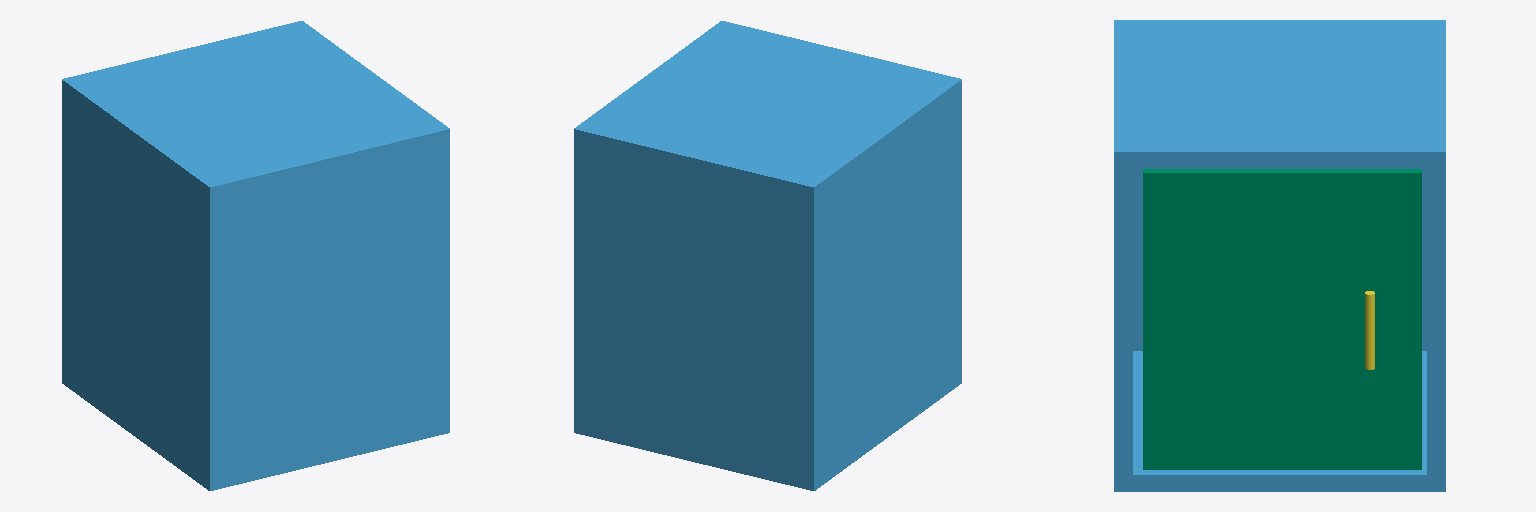
robot.urdf — my_cabinet:
<?xml version="1.0" ?>
<robot name="my_cabinet">
	<link name="world"/>
	<joint name="virtual_joint" type="fixed">
		<parent link="world"/>
		<child link="base_cabinet_link"/>
		<origin xyz="0.0 0.0 0.0" rpy="0.0 0.0 0.0"/>
	</joint>
	<link name="base_cabinet_link">
		<visual>
			<origin xyz="0.0 -0.0025 -0.17204618002771324" rpy="0.0 0.0 0.0"/>
			<geometry>
				<box size="0.3 0.32010508906761626 0.018"/>
			</geometry>
		</visual>
		<collision name="base_cabinet_link_collision_0">
			<origin xyz="0.0 -0.0025 -0.17204618002771324" rpy="0.0 0.0 0.0"/>
			<geometry>
				<box size="0.3 0.32010508906761626 0.018"/>
			</geometry>
		</collision>
		<visual>
			<origin xyz="0.0 0.14855254453380815 0.0" rpy="0.0 0.0 0.0"/>
			<geometry>
				<box size="0.3 0.018 0.3620923600554265"/>
			</geometry>
		</visual>
		<collision name="base_cabinet_link_collision_1">
			<origin xyz="0.0 0.14855254453380815 0.0" rpy="0.0 0.0 0.0"/>
			<geometry>
				<box size="0.3 0.018 0.3620923600554265"/>
			</geometry>
		</collision>
		<visual>
			<origin xyz="0.0 -0.15355254453380815 0.0" rpy="0.0 0.0 0.0"/>
			<geometry>
				<box size="0.3 0.018 0.3620923600554265"/>
			</geometry>
		</visual>
		<collision name="base_cabinet_link_collision_2">
			<origin xyz="0.0 -0.15355254453380815 0.0" rpy="0.0 0.0 0.0"/>
			<geometry>
				<box size="0.3 0.018 0.3620923600554265"/>
			</geometry>
		</collision>
		<visual>
			<origin xyz="0.0 -0.0025 0.17204618002771324" rpy="0.0 0.0 0.0"/>
			<geometry>
				<box size="0.3 0.32010508906761626 0.018"/>
			</geometry>
		</visual>
		<collision name="base_cabinet_link_collision_3">
			<origin xyz="0.0 -0.0025 0.17204618002771324" rpy="0.0 0.0 0.0"/>
			<geometry>
				<box size="0.3 0.32010508906761626 0.018"/>
			</geometry>
		</collision>
		<visual>
			<origin xyz="-0.141 -0.0025 0.0" rpy="0.0 0.0 0.0"/>
			<geometry>
				<box size="0.018 0.32010508906761626 0.3620923600554265"/>
			</geometry>
		</visual>
		<collision name="base_cabinet_link_collision_4">
			<origin xyz="-0.141 -0.0025 0.0" rpy="0.0 0.0 0.0"/>
			<geometry>
				<box size="0.018 0.32010508906761626 0.3620923600554265"/>
			</geometry>
		</collision>
		<inertial>
			<mass value="0.200000"/>
			<inertia ixx="0.003893" ixy="0.0" ixz="0.0" iyy="0.003685" iyz="0.0" izz="0.003208"/>
		</inertial>
	</link>
	<link name="door_link">
		<visual>
			<origin xyz="0.0 -0.13455254453380813 0.0"/>
			<geometry>
				<box size="0.018 0.26910508906761627 0.31609236005542646"/>
			</geometry>
		</visual>
		<collision name="door_link_collision">
			<origin xyz="0.0 -0.13455254453380813 0.0"/>
			<geometry>
				<box size="0.018 0.26910508906761627 0.31609236005542646"/>
			</geometry>
		</collision>
		<inertial>
			<mass value="0.200000"/>
			<inertia ixx="0.002872" ixy="0.0" ixz="0.0" iyy="0.001671" iyz="0.0" izz="0.001212"/>
		</inertial>
	</link>
	<joint name="door_joint" type="revolute">
		<origin xyz="0.141 -0.13455254453380813 0.0" rpy="0.000000 -0.000000 3.141593"/>
		<axis xyz="0 0 1"/>
		<parent link="base_cabinet_link"/>
		<child link="door_link"/>
		<limit effort="50" lower="-1.658062789394613" upper="0" velocity="10"/>
		<dynamics friction="3.5" damping="3.5"/>
	</joint>
	<link name="handle_link">
		<visual>
			<origin xyz="0.0 0.0 0.0" rpy="0.0 0.0 0.0"/>
			<geometry>
				<cylinder length="0.08" radius="0.005"/>
			</geometry>
		</visual>
		<collision name="handle_link_collision_0">
			<origin xyz="0.0 0.0 0.0" rpy="0.0 0.0 0.0"/>
			<geometry>
				<cylinder length="0.08" radius="0.005"/>
			</geometry>
		</collision>
		<visual>
			<origin xyz="-0.01 0.0 0.02" rpy="0.0 1.5707963267948966 0.0"/>
			<geometry>
				<cylinder length="0.02" radius="0.003"/>
			</geometry>
		</visual>
		<collision name="handle_link_collision_1">
			<origin xyz="-0.01 0.0 0.02" rpy="0.0 1.5707963267948966 0.0"/>
			<geometry>
				<cylinder length="0.01" radius="0.003"/>
			</geometry>
		</collision>
		<visual>
			<origin xyz="-0.01 0.0 -0.02" rpy="0.0 1.5707963267948966 0.0"/>
			<geometry>
				<cylinder length="0.02" radius="0.003"/>
			</geometry>
		</visual>
		<collision name="handle_link_collision_2">
			<origin xyz="-0.01 0.0 -0.02" rpy="0.0 1.5707963267948966 0.0"/>
			<geometry>
				<cylinder length="0.02" radius="0.003"/>
			</geometry>
		</collision>
		<inertial>
			<mass value="0.050000"/>
			<inertia ixx="0.000027" ixy="0.0" ixz="0.0" iyy="0.000029" iyz="0.0" izz="0.000003"/>
		</inertial>
	</link>
	<joint name="handle_joint" type="fixed">
		<origin xyz="-0.028999999999999998 -0.21910508906761628 0.0" rpy="0.000000 -0.000000 3.141593"/>
		<parent link="door_link"/>
		<child link="handle_link"/>
	</joint>
	<gazebo reference="base_cabinet_link">
		<sensor name="main_sensor" type="contact">
			<selfCollide>true</selfCollide>
			<alwaysOn>true</alwaysOn>
			<updateRate>5.0</updateRate>
			<material>Gazebo/Red</material>
			<contact>
				<collision>base_cabinet_link_collision_0_collision</collision>
				<collision>base_cabinet_link_collision_1_collision</collision>
				<collision>base_cabinet_link_collision_2_collision</collision>
				<collision>base_cabinet_link_collision_3_collision</collision>
				<collision>base_cabinet_link_collision_4_collision</collision>
			</contact>
			<plugin name="gazebo_ros_bumper_controller" filename="libgazebo_ros_bumper.so">
				<bumperTopicName>/contact</bumperTopicName>
				<frameName>world</frameName>
			</plugin>
		</sensor>
	</gazebo>
	<gazebo reference="door_link">
		<sensor name="main_sensor" type="contact">
			<selfCollide>true</selfCollide>
			<alwaysOn>true</alwaysOn>
			<updateRate>5.0</updateRate>
			<material>Gazebo/Red</material>
			<contact>
				<collision>door_link_collision_collision</collision>
			</contact>
			<plugin name="gazebo_ros_bumper_controller" filename="libgazebo_ros_bumper.so">
				<bumperTopicName>/contact_door</bumperTopicName>
				<frameName>contact_door</frameName>
			</plugin>
		</sensor>
	</gazebo>
	<gazebo reference="door_link">
		<mu>3.0</mu>
		<mu2>3.0</mu2>
		<kp>10000000</kp>
		<kd>100</kd>
	</gazebo>
</robot>

--- What the picture shows (computed from the rendered views, not written in the file) ---
Views: 3 orthographic renders of the robot side by side, from view 1: azimuth 30°, elevation 25°; view 2: azimuth 150°, elevation 25°; view 3: azimuth 270°, elevation 25°.
Model my_cabinet with 4 links and 3 joints (1 revolute, 2 fixed), rooted at world, posed all joints at 0.
Visible links, largest first — view 1: base_cabinet_link; view 2: base_cabinet_link; view 3: door_link, base_cabinet_link, handle_link.
Link boxes in pixels (<box>): base_cabinet_link: <box>62,21,449,490</box>; base_cabinet_link: <box>574,21,961,490</box>; door_link: <box>1143,169,1421,469</box>; base_cabinet_link: <box>1114,20,1445,491</box>; handle_link: <box>1365,291,1374,369</box>.
Size in the robot's own frame: 0.325 by 0.3201 by 0.3621 metres.
Geometry: primitives only (box / cylinder / sphere), no mesh files.
